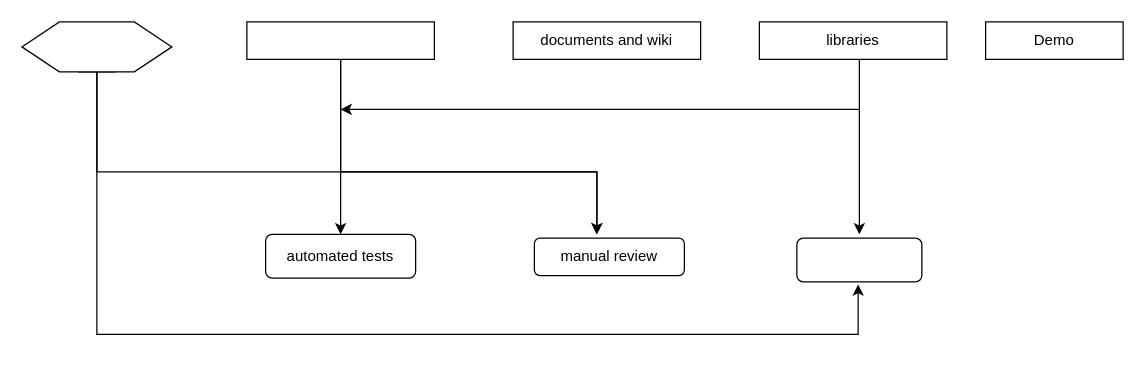
Image size: 1145x366. Some labels were removed from this diagram. Here are the shapes that lost their labels. From the top down, the centre of each, then its label:
At (x=96, y=46): "SW release".
At (x=340, y=40): "workshops and example".
At (x=859, y=259): "unit tests".
